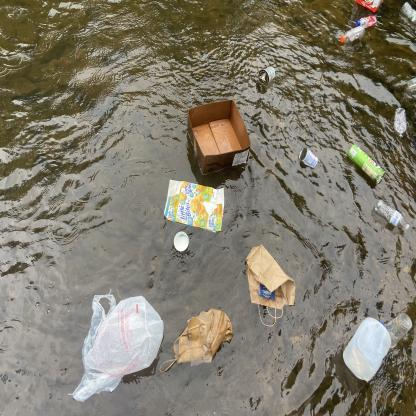trash: (69, 287, 165, 403), (180, 95, 255, 180), (157, 306, 234, 379), (244, 237, 298, 331), (341, 315, 394, 385), (162, 178, 226, 234), (345, 141, 385, 188), (376, 309, 416, 352), (371, 197, 414, 235), (335, 20, 370, 47), (389, 102, 409, 140), (298, 144, 320, 171), (138, 328, 162, 352), (253, 63, 277, 85), (352, 12, 379, 31), (350, 0, 386, 14), (171, 230, 191, 253), (399, 0, 416, 25)
